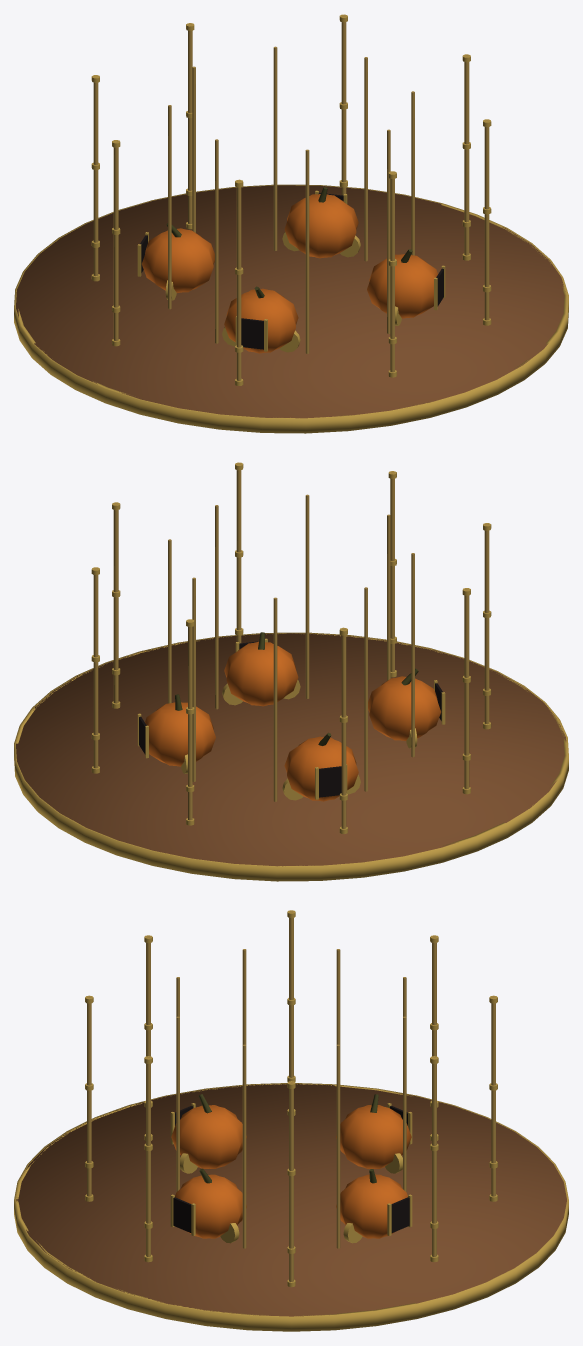
File: hg-carousel-ride.glb
3 renders of one model, top to bottom at view 1: azimuth 30°, elevation 25°; view 2: azimuth 150°, elevation 25°; view 3: azimuth 270°, elevation 25°, orthographic.
Visible parts, largest first — view 1: hg-carousel-ride; view 2: hg-carousel-ride; view 3: hg-carousel-ride.
Boxes of the visible parts, x1,y1,x2,y2 form: hg-carousel-ride: (14,14,568,433); hg-carousel-ride: (14,462,568,881); hg-carousel-ride: (14,910,568,1331).
Bounding box in the file's own units: 9.06 × 3.91 × 9.06.
